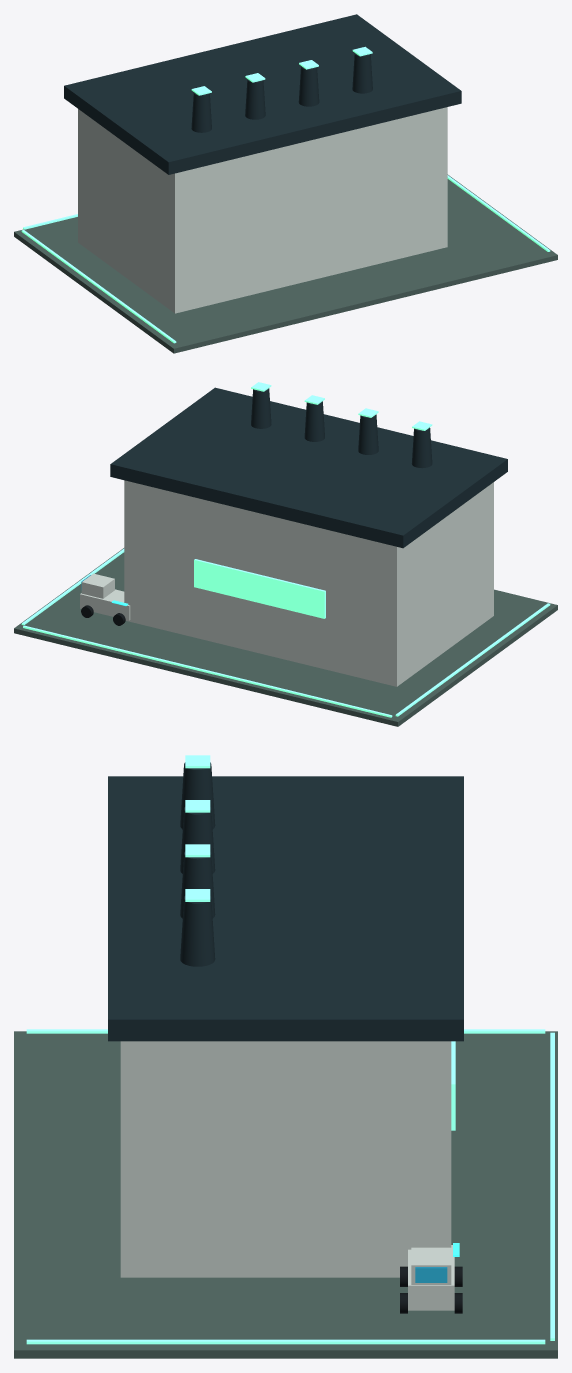
The model's file is factory-module.glb.
3 views of the same model, one above another, from view 1: azimuth 30°, elevation 25°; view 2: azimuth 150°, elevation 25°; view 3: azimuth 270°, elevation 25° (orthographic). The views are drawn at different scales.
Parts seen in each view (by area): view 1: rj-factory-building-module-generator-hall, rj-factory-building-module-dark-roof, rj-factory-building-module-service-pad, rj-factory-building-module-roof-stack-4, rj-factory-building-module-roof-stack-1, rj-factory-building-module-roof-stack-3, rj-factory-building-module-roof-stack-2, rj-factory-building-module-side-glow-rail-left, rj-factory-building-module-side-glow-rail-right; view 2: rj-factory-building-module-generator-hall, rj-factory-building-module-dark-roof, rj-factory-building-module-service-pad, rj-factory-building-module-control-bay-glow, rj-factory-building-module-front-glow-rail, rj-factory-building-module-service-truck-body, rj-factory-building-module-roof-stack-4, rj-factory-building-module-roof-stack-1, rj-factory-building-module-roof-stack-2, rj-factory-building-module-roof-stack-3, rj-factory-building-module-side-glow-rail-left, rj-factory-building-module-service-truck-cab (+1 smaller); view 3: rj-factory-building-module-service-pad, rj-factory-building-module-dark-roof, rj-factory-building-module-generator-hall, rj-factory-building-module-side-glow-rail-right, rj-factory-building-module-roof-stack-4, rj-factory-building-module-front-glow-rail, rj-factory-building-module-service-truck-body, rj-factory-building-module-roof-stack-2, rj-factory-building-module-roof-stack-1, rj-factory-building-module-roof-stack-3, rj-factory-building-module-service-truck-cab, rj-factory-building-module-side-glow-rail-left.
Boxes of the visible parts, x1,y1,x2,y2 form: rj-factory-building-module-generator-hall: [78, 107, 447, 313]; rj-factory-building-module-dark-roof: [64, 14, 461, 174]; rj-factory-building-module-service-pad: [14, 174, 557, 353]; rj-factory-building-module-roof-stack-4: [352, 53, 372, 93]; rj-factory-building-module-roof-stack-1: [191, 92, 211, 132]; rj-factory-building-module-roof-stack-3: [298, 66, 319, 106]; rj-factory-building-module-roof-stack-2: [245, 79, 265, 119]; rj-factory-building-module-side-glow-rail-left: [21, 230, 176, 343]; rj-factory-building-module-side-glow-rail-right: [447, 175, 550, 251]; rj-factory-building-module-generator-hall: [124, 480, 493, 686]; rj-factory-building-module-dark-roof: [110, 387, 507, 548]; rj-factory-building-module-service-pad: [14, 548, 557, 726]; rj-factory-building-module-control-bay-glow: [194, 559, 325, 618]; rj-factory-building-module-front-glow-rail: [23, 625, 392, 717]; rj-factory-building-module-service-truck-body: [80, 589, 130, 620]; rj-factory-building-module-roof-stack-4: [251, 388, 271, 428]; rj-factory-building-module-roof-stack-1: [411, 427, 432, 468]; rj-factory-building-module-roof-stack-2: [358, 414, 378, 454]; rj-factory-building-module-roof-stack-3: [304, 401, 324, 441]; rj-factory-building-module-side-glow-rail-left: [395, 603, 550, 716]; rj-factory-building-module-service-truck-cab: [81, 573, 114, 598]; rj-factory-building-module-service-pad: [14, 1031, 557, 1358]; rj-factory-building-module-dark-roof: [108, 776, 463, 1041]; rj-factory-building-module-generator-hall: [120, 1041, 451, 1277]; rj-factory-building-module-side-glow-rail-right: [26, 1339, 545, 1344]; rj-factory-building-module-roof-stack-4: [180, 896, 215, 966]; rj-factory-building-module-front-glow-rail: [550, 1032, 554, 1340]; rj-factory-building-module-service-truck-body: [408, 1245, 454, 1310]; rj-factory-building-module-roof-stack-2: [180, 807, 215, 873]; rj-factory-building-module-roof-stack-1: [180, 762, 215, 829]; rj-factory-building-module-roof-stack-3: [180, 851, 215, 918]; rj-factory-building-module-service-truck-cab: [411, 1247, 451, 1284]; rj-factory-building-module-side-glow-rail-left: [26, 1029, 545, 1033].
Size of the model in its own units: 13.25 by 6.72 by 9.55.
